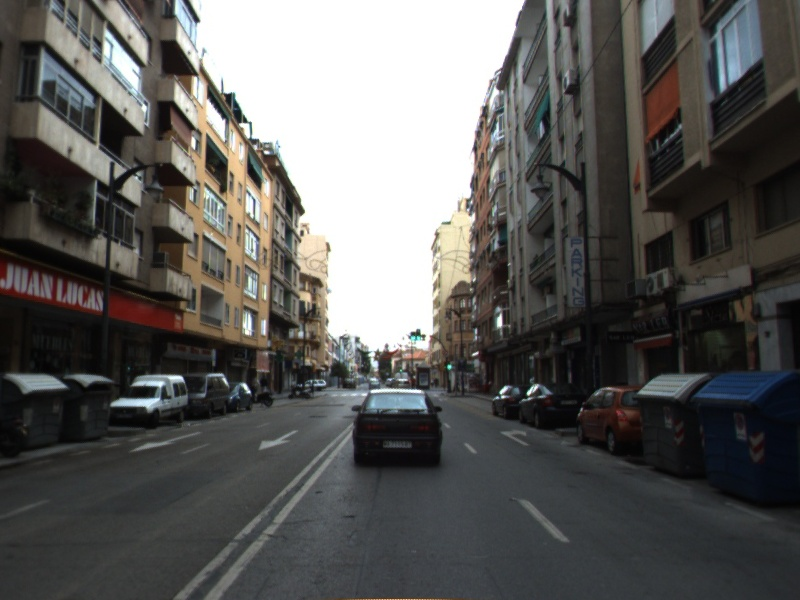RIGHT: (499, 427, 531, 448)
